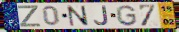0: (42, 6, 62, 28)
7: (138, 4, 157, 27)
G: (115, 4, 139, 27)
J: (94, 5, 110, 27)
N: (66, 5, 91, 27)
Z: (17, 5, 42, 28)
